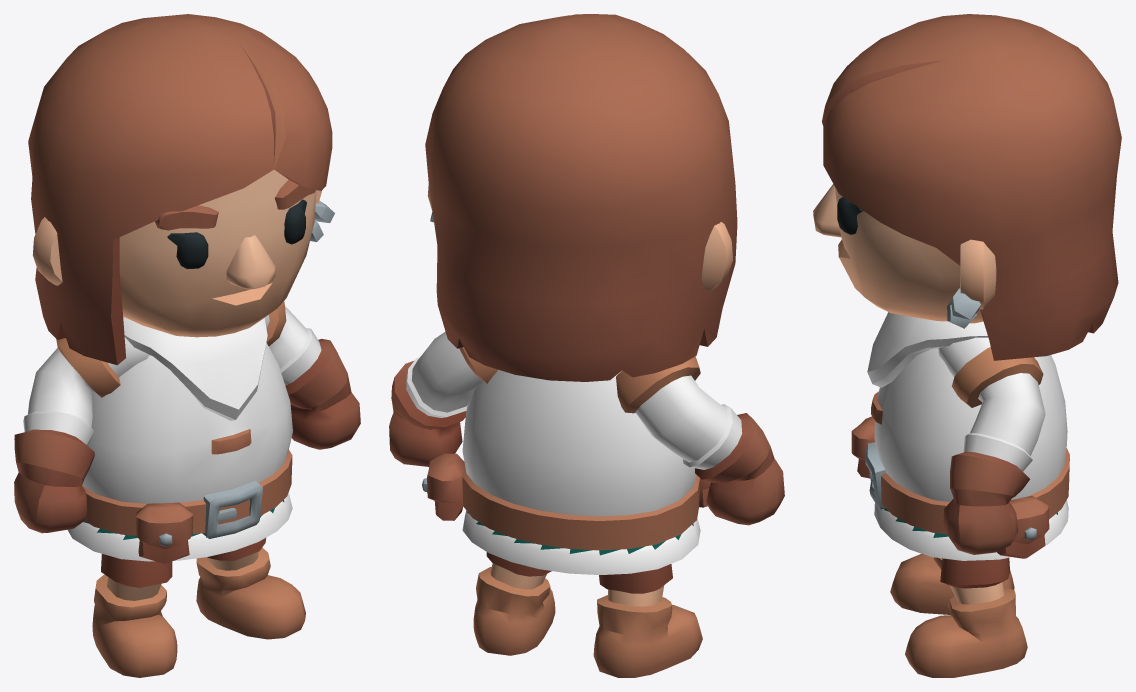
File: worker.glb
3 renders of one model, left to right at view 1: azimuth 30°, elevation 25°; view 2: azimuth 150°, elevation 25°; view 3: azimuth 270°, elevation 25°, orthographic. The views are drawn at different scales.
Visible parts, largest first — view 1: worker; view 2: worker; view 3: worker.
Part boxes in pixels (<box>): worker: <box>14,14,360,677</box>; worker: <box>389,14,784,677</box>; worker: <box>813,14,1121,677</box>.
Bounding box in the file's own units: 0.8809 × 1.45 × 0.6775.
2 materials, 1 textured.
